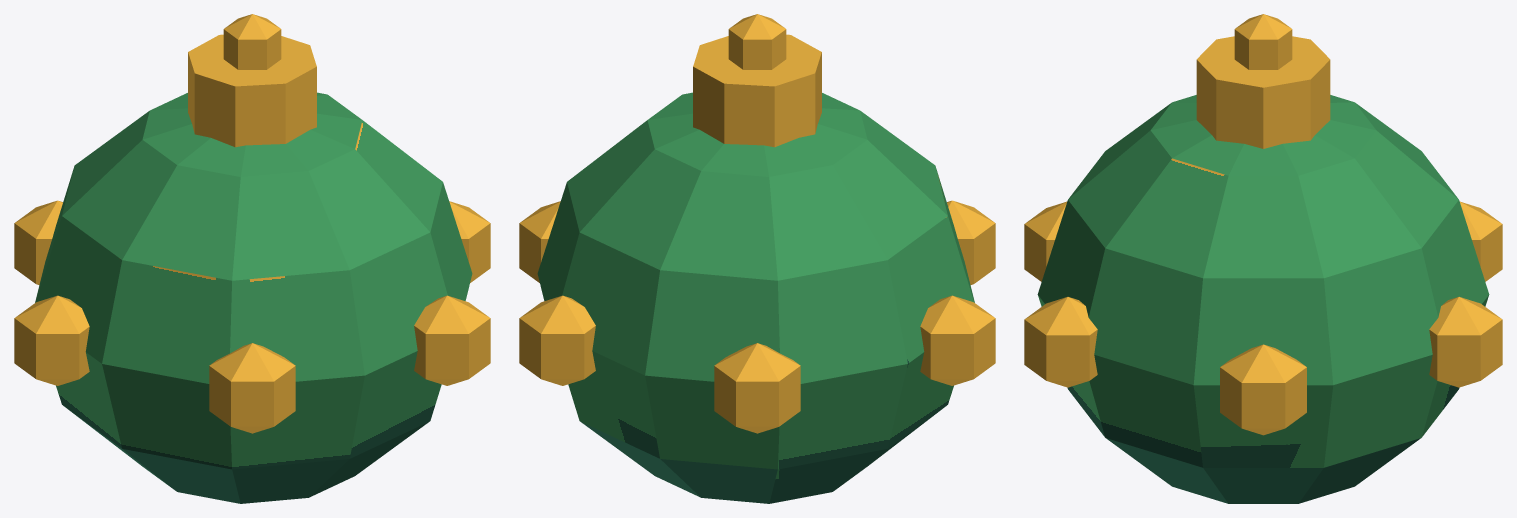
The model's file is ornament_mine.glb.
3 views of the same model, side by side, from view 1: azimuth 30°, elevation 25°; view 2: azimuth 150°, elevation 25°; view 3: azimuth 270°, elevation 25° (orthographic).
Visible parts, largest first — view 1: ornament_mine; view 2: ornament_mine; view 3: ornament_mine.
Boxes of the visible parts, <box> form: ornament_mine: <box>14,14,490,503</box>; ornament_mine: <box>519,14,995,503</box>; ornament_mine: <box>1024,14,1502,503</box>.
Size of the model in its own units: 0.63 by 0.62 by 0.5716.
1 material, 1 textured.
